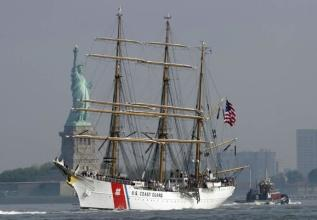fanchuan: (53, 9, 249, 213)
otherboat: (237, 175, 288, 207)
